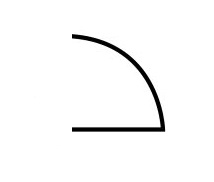door: (46, 18, 184, 158)
